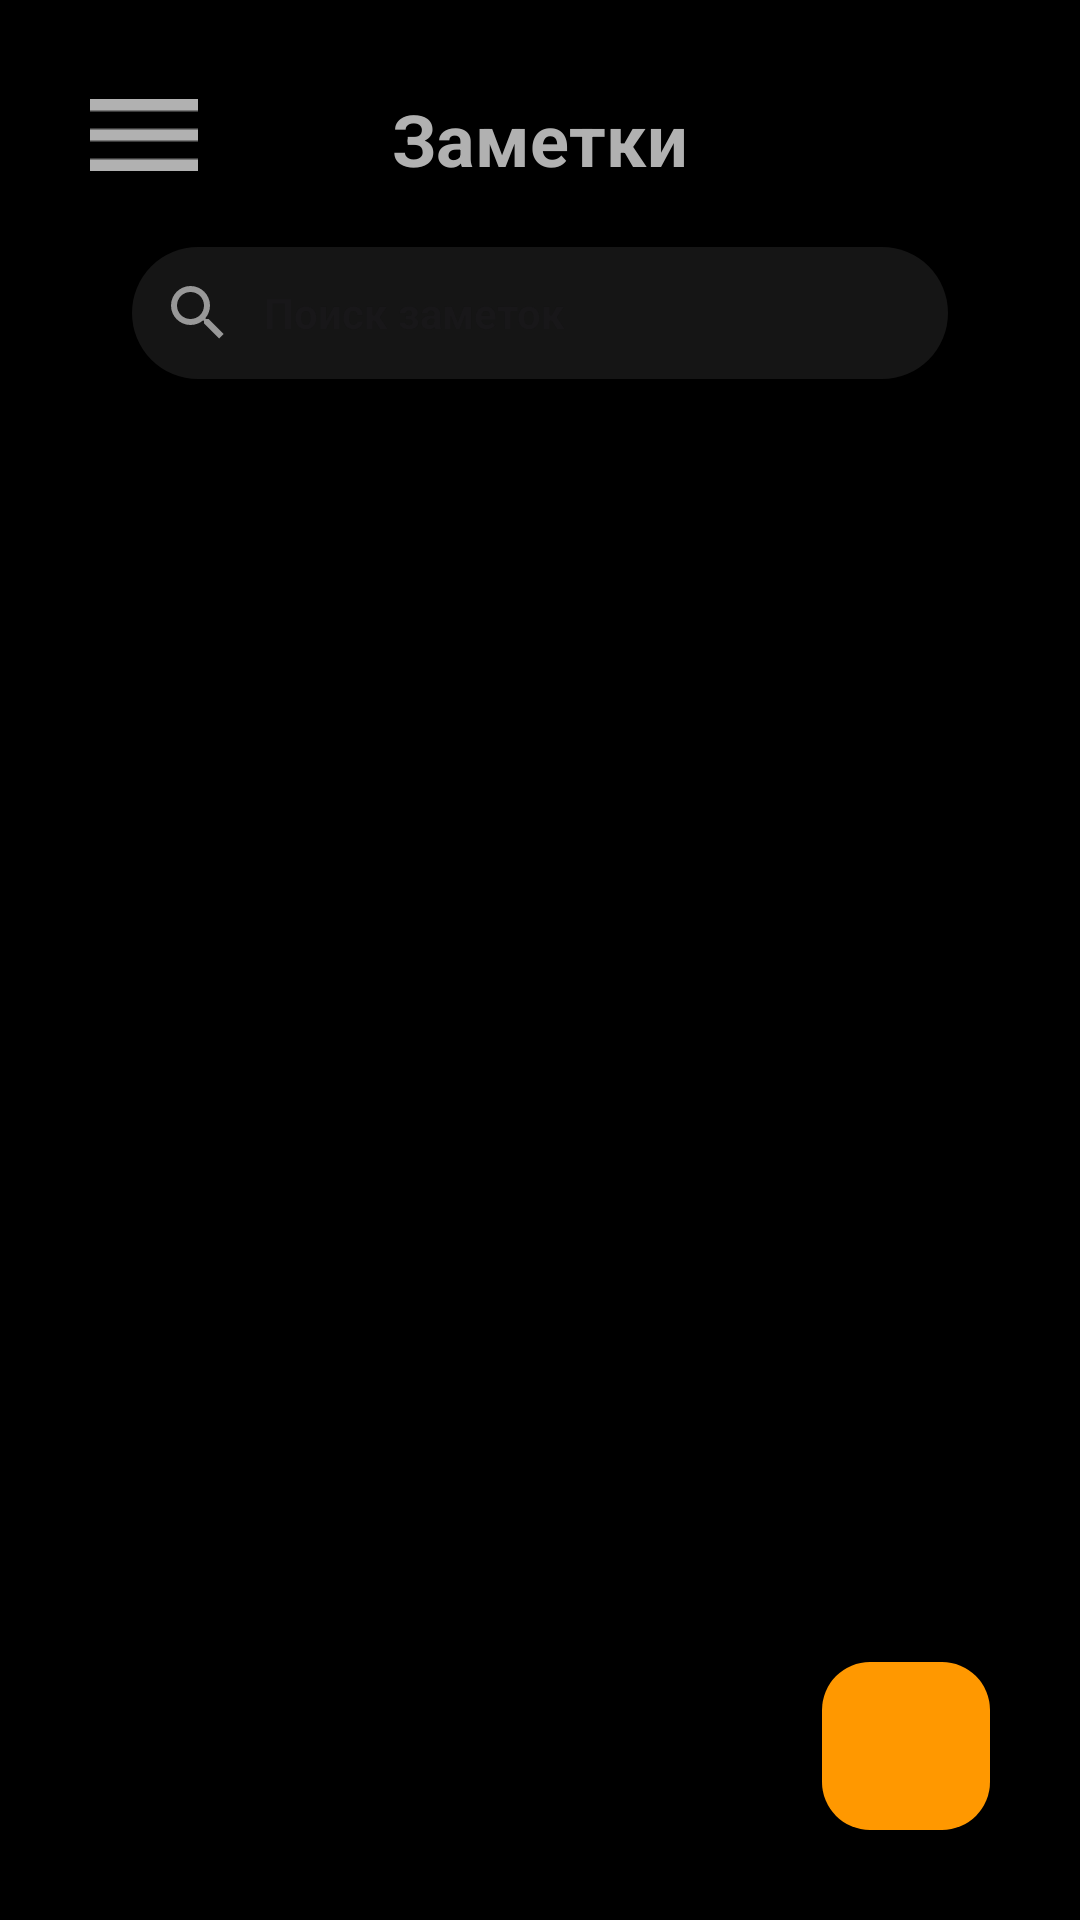

Screen size 1080x1920. Icon name, then its box in pixels as BBox(x1, y1, x2, y2):
menu: BBox(90, 99, 198, 171)
